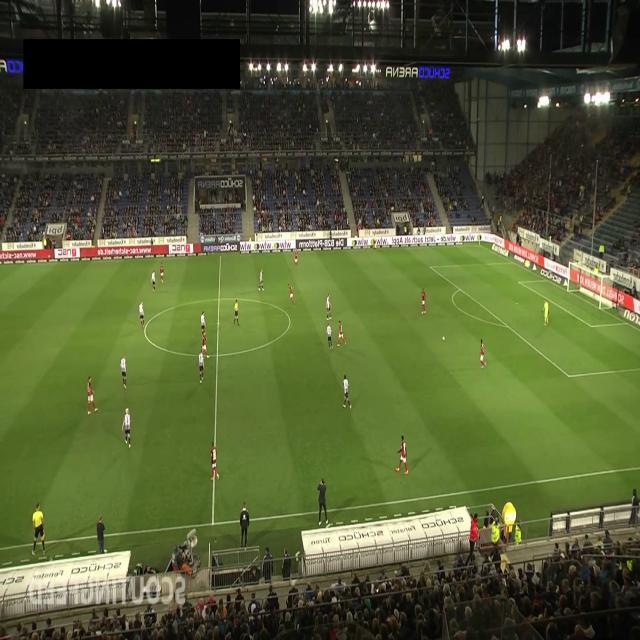ball: (441, 334, 446, 342)
goalkeeper: (542, 299, 549, 327)
player: (395, 434, 408, 475), (87, 376, 98, 415), (122, 407, 131, 447), (210, 441, 219, 480), (342, 374, 352, 409), (337, 321, 347, 346), (120, 355, 127, 389), (198, 348, 204, 383), (201, 332, 209, 358), (326, 322, 333, 349), (480, 338, 486, 369), (326, 292, 332, 320), (200, 310, 206, 336), (288, 283, 295, 305), (258, 268, 264, 292), (139, 301, 144, 329), (421, 287, 426, 314), (293, 248, 299, 269), (159, 261, 164, 284), (151, 270, 156, 292)
referee: (31, 502, 46, 555), (233, 298, 240, 326), (372, 231, 376, 250)
